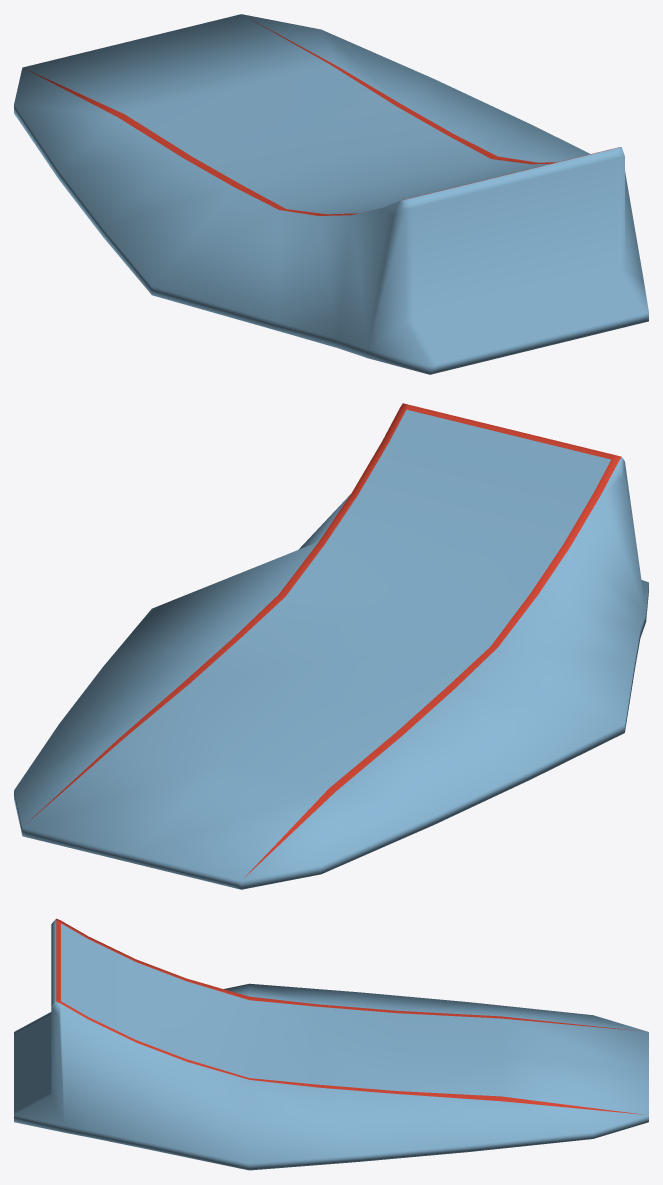
The model's file is tramplin_01.fbx.
3 views of the same model, one above another, from view 1: azimuth 30°, elevation 25°; view 2: azimuth 150°, elevation 25°; view 3: azimuth 270°, elevation 25° (orthographic). The views are drawn at different scales.
Parts seen in each view (by area): view 1: Cube; view 2: Cube; view 3: Cube.
Part boxes in pixels (x1,y1,x2,y2): Cube: (14, 14, 648, 374); Cube: (14, 403, 648, 889); Cube: (14, 918, 648, 1170).
Size of the model in its own units: 2305 by 720 by 3440.
